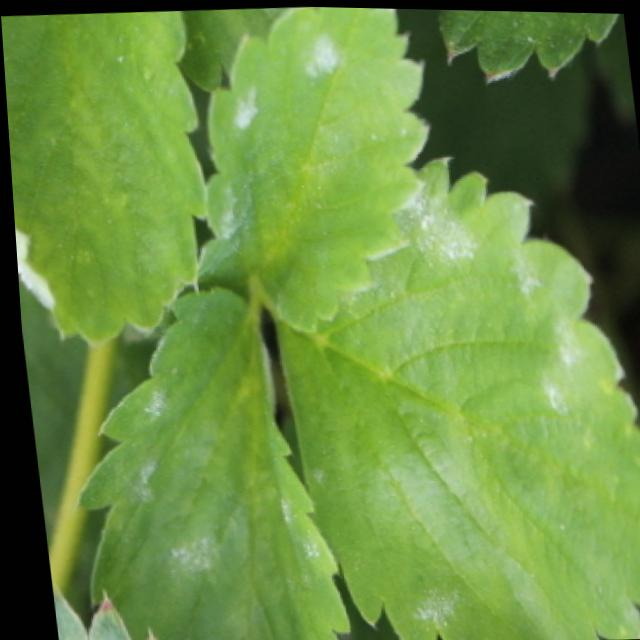Powdery Mildew Leaf: (269, 152, 640, 640), (66, 286, 344, 640), (191, 5, 430, 331), (1, 10, 206, 348)
